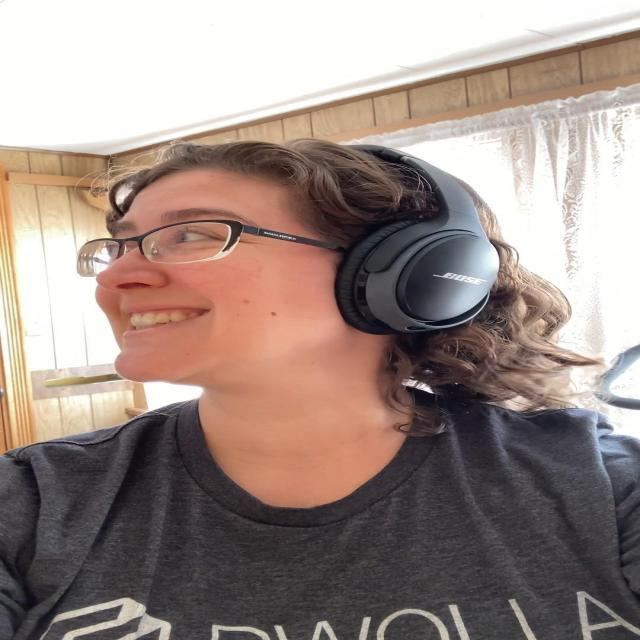no hat: (90, 168, 328, 382)
